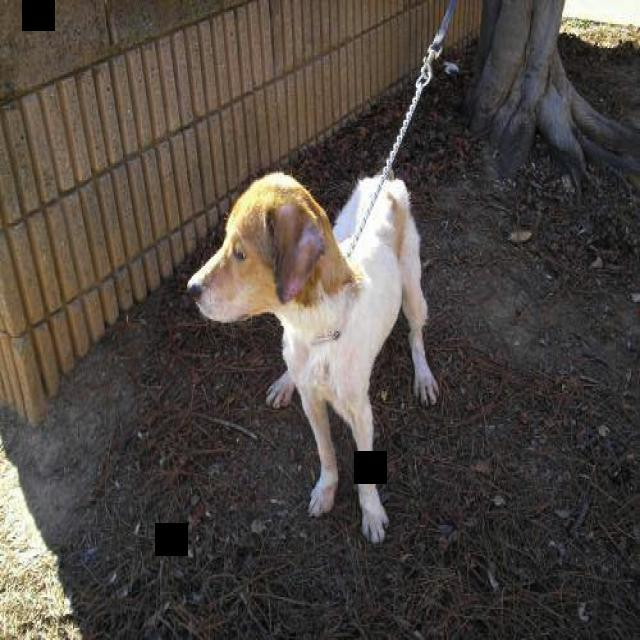adult_dog: (183, 170, 441, 545)
